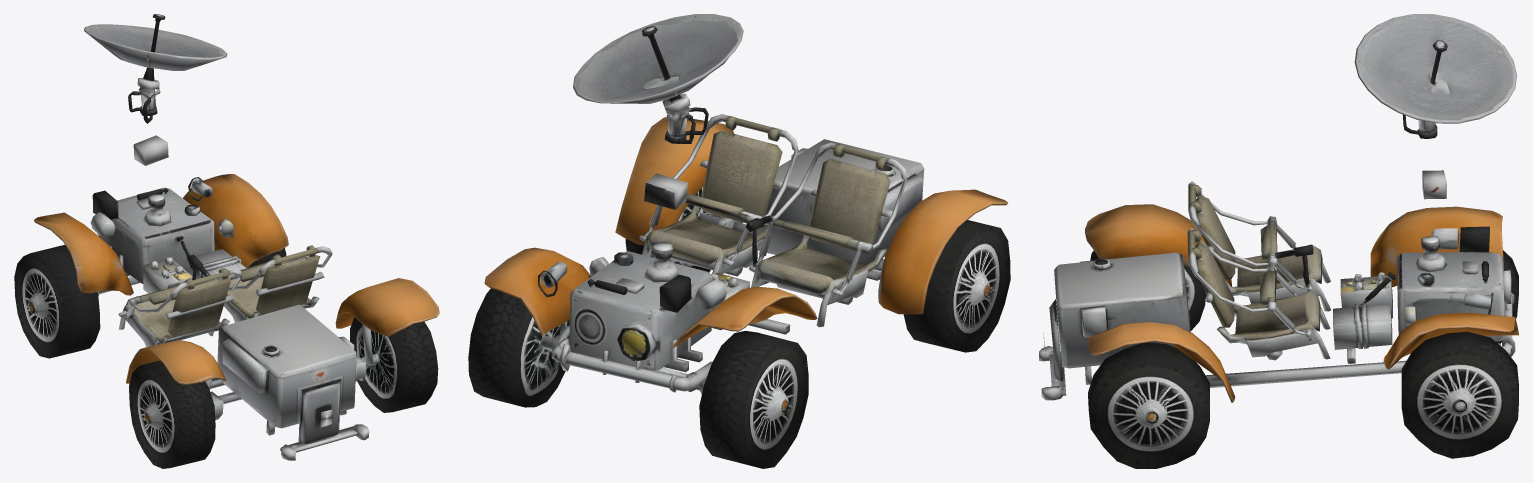
The model's file is apollo-15-lrv.glb.
3 renders of one model, left to right at view 1: azimuth 30°, elevation 25°; view 2: azimuth 150°, elevation 25°; view 3: azimuth 270°, elevation 25°, orthographic. The views are drawn at different scales.
Parts seen in each view (by area): view 1: tripo_node_46c8f777-ca67-42b7-a45c-8441c9d8a1a8; view 2: tripo_node_46c8f777-ca67-42b7-a45c-8441c9d8a1a8; view 3: tripo_node_46c8f777-ca67-42b7-a45c-8441c9d8a1a8.
Boxes of the visible parts, x1=… form: tripo_node_46c8f777-ca67-42b7-a45c-8441c9d8a1a8: x1=14, y1=14, x2=439, y2=468; tripo_node_46c8f777-ca67-42b7-a45c-8441c9d8a1a8: x1=468, y1=14, x2=1010, y2=468; tripo_node_46c8f777-ca67-42b7-a45c-8441c9d8a1a8: x1=1039, y1=14, x2=1518, y2=468.
Size of the model in its own units: 0.7324 by 0.8341 by 0.998.
Materials: 1 (1 with a texture image).
